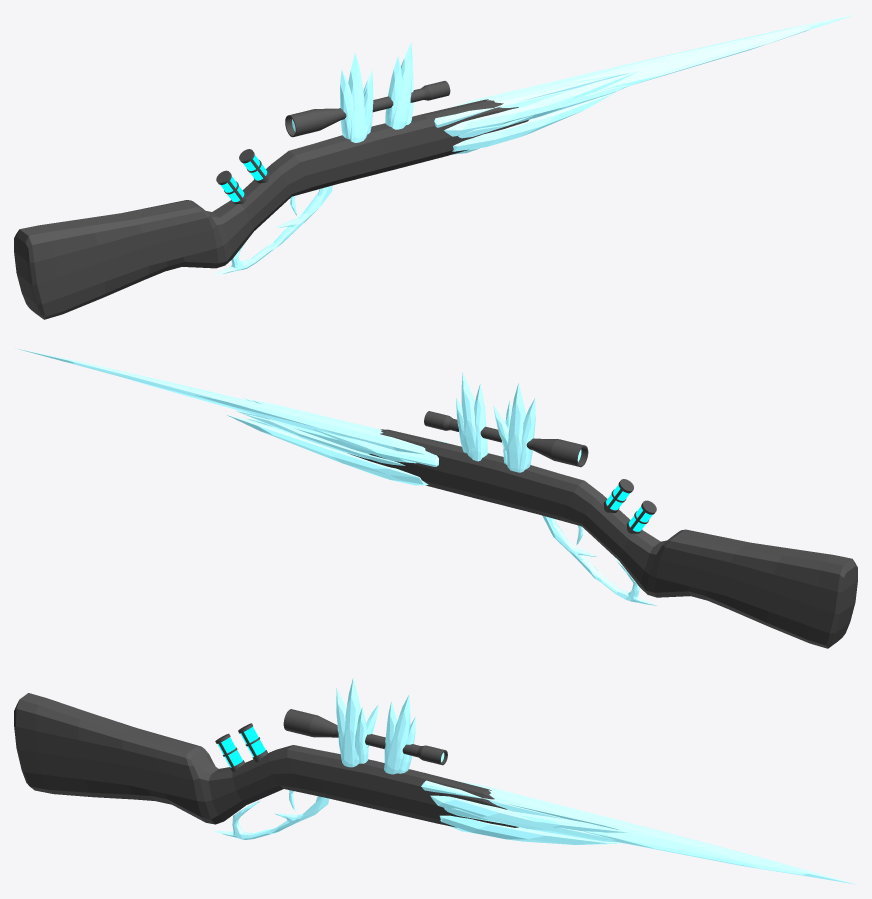
The model's file is ice sniper.fbx.
3 renders of one model, top to bottom at view 1: azimuth 30°, elevation 25°; view 2: azimuth 150°, elevation 25°; view 3: azimuth 330°, elevation 25°, orthographic.
Parts seen in each view (by area): view 1: gun, ice Canon, Scope supp 1, Scope, Scope sup 2, lever; view 2: gun, ice Canon, Scope supp 1, Scope, Scope sup 2, lever; view 3: gun, ice Canon, Scope supp 1, Scope, Scope sup 2, lever.
Boxes of the visible parts, box(x1,y1,x2,y2) form: gun: box(14, 99, 528, 319); ice Canon: box(434, 14, 856, 154); Scope supp 1: box(340, 52, 373, 142); Scope: box(285, 81, 450, 137); Scope sup 2: box(385, 42, 413, 129); lever: box(213, 185, 332, 275); gun: box(348, 429, 857, 648); ice Canon: box(18, 349, 448, 485); Scope supp 1: box(493, 383, 535, 472); Scope: box(424, 411, 588, 467); Scope sup 2: box(456, 372, 487, 461); lever: box(542, 515, 657, 605); gun: box(14, 693, 518, 827); ice Canon: box(421, 780, 856, 884); Scope supp 1: box(336, 678, 378, 767); Scope: box(283, 709, 447, 765); Scope sup 2: box(384, 694, 415, 774); lever: box(214, 796, 328, 839).
Size of the model in its own units: 3946 by 856 by 161.
